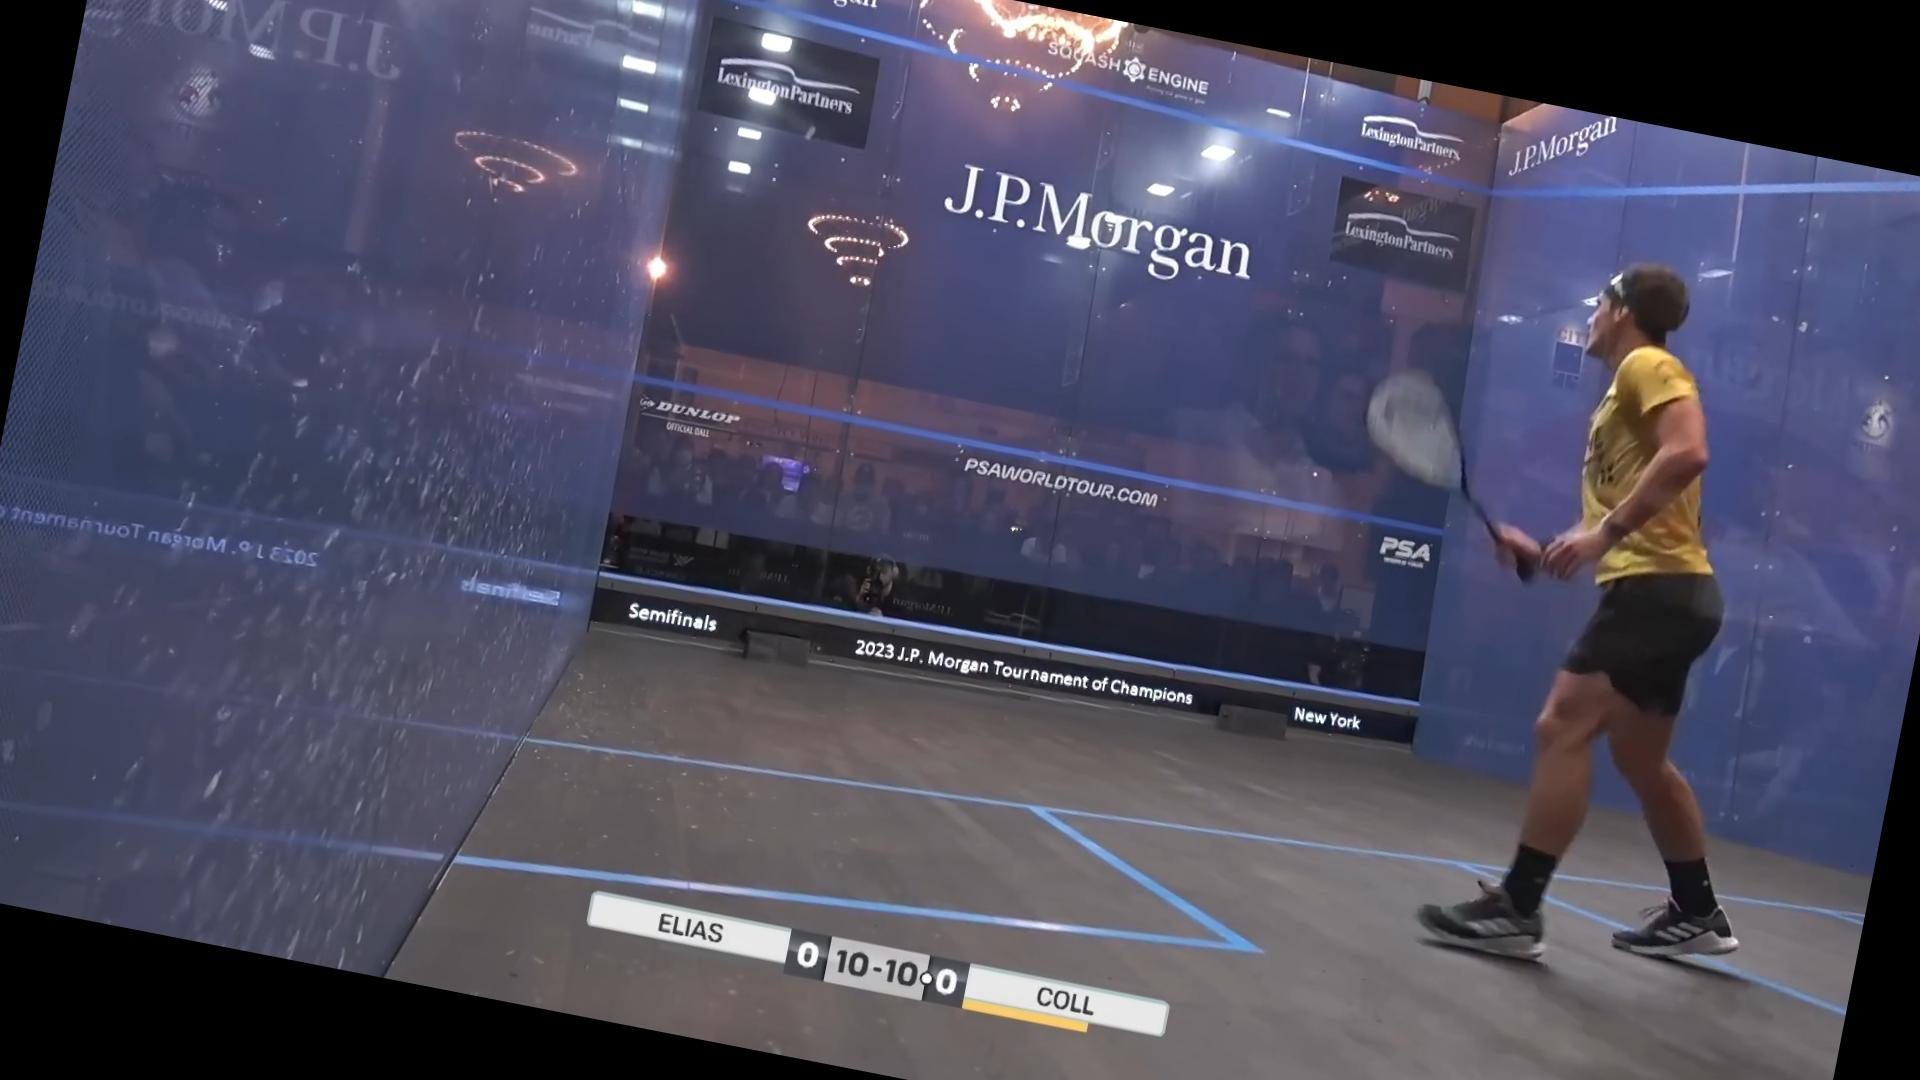Racket: (1333, 349, 1535, 549)
